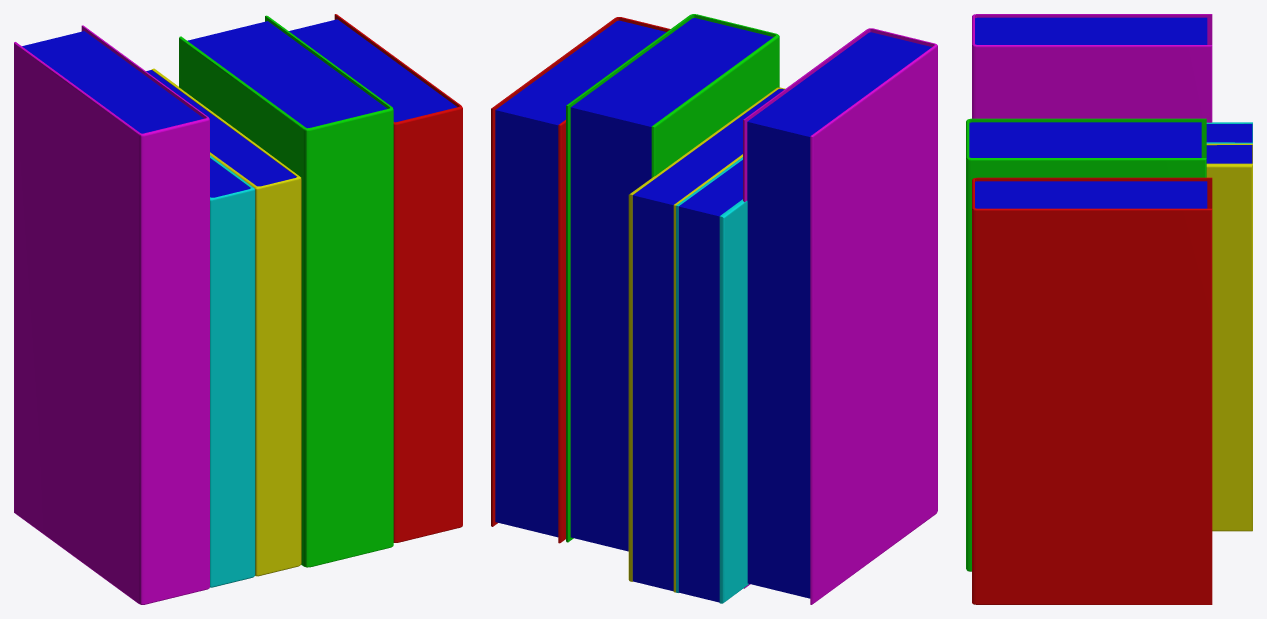
Rendered from Workshop_Books.fbx.
3 renders of one model, left to right at view 1: azimuth 30°, elevation 25°; view 2: azimuth 150°, elevation 25°; view 3: azimuth 270°, elevation 25°, orthographic. The views are drawn at different scales.
Visible parts, largest first — view 1: Workshop_Books; view 2: Workshop_Books; view 3: Workshop_Books.
Boxes of the visible parts, <box> form: Workshop_Books: <box>14,14,462,604</box>; Workshop_Books: <box>491,14,937,604</box>; Workshop_Books: <box>966,14,1252,604</box>.
Bounding box in the file's own units: 6.92 × 9.62 × 5.64.
